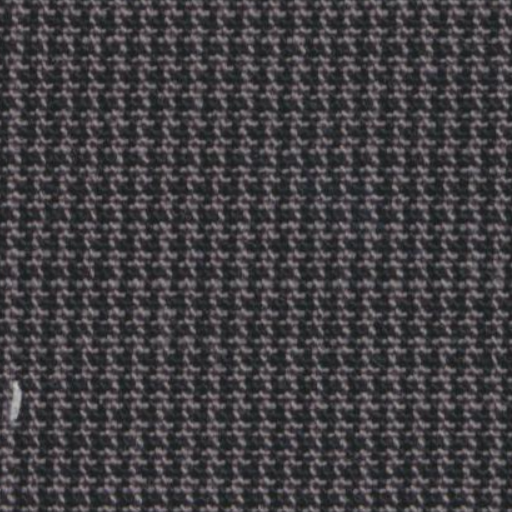DuanSha: (8, 354, 32, 428)
